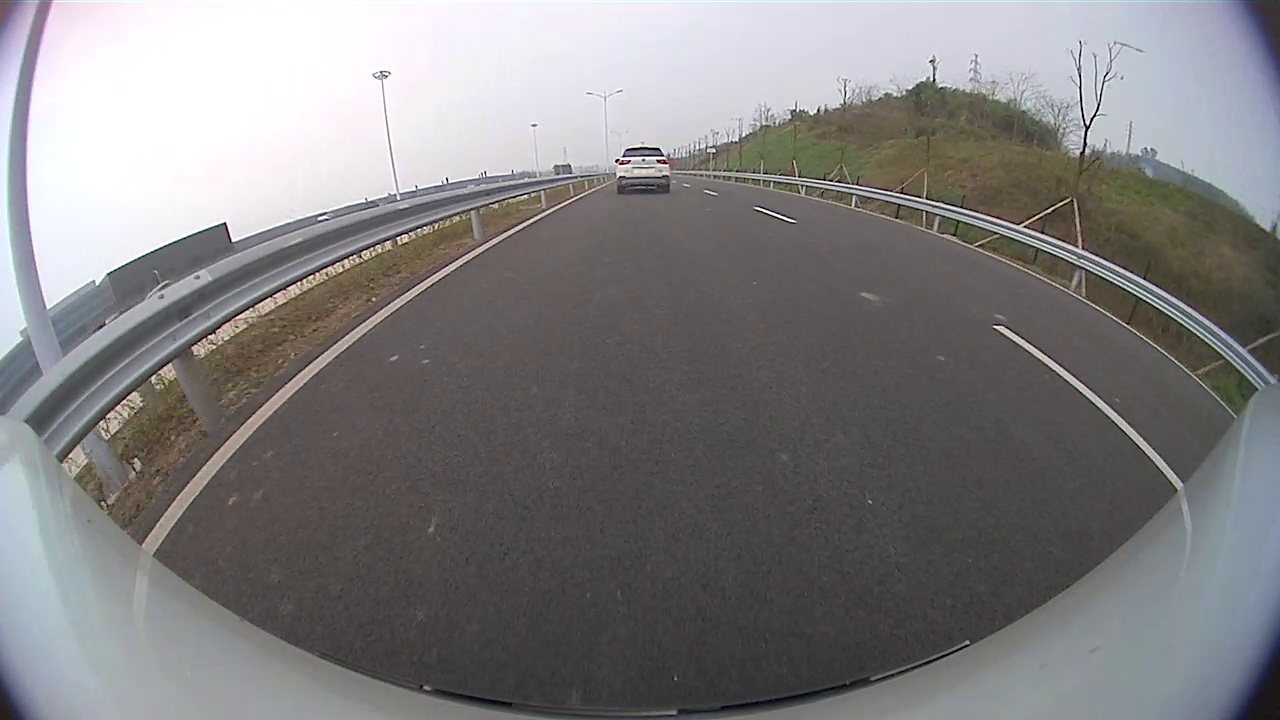car: (615, 146, 671, 195)
